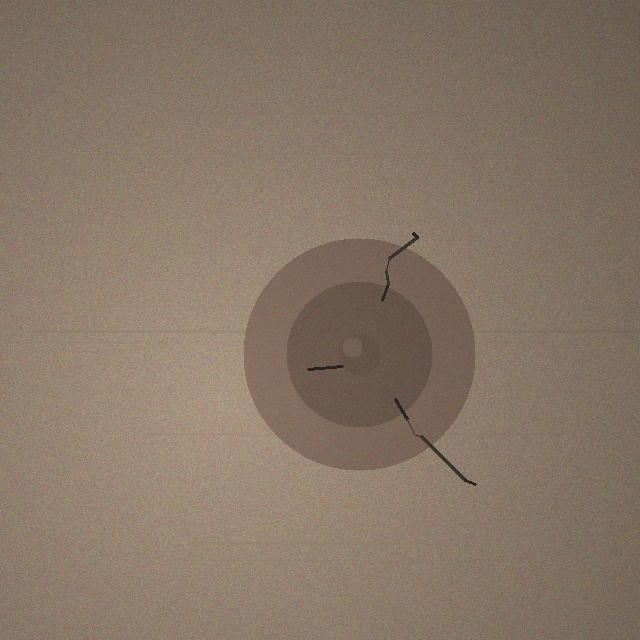crack: (243, 238, 475, 470)
